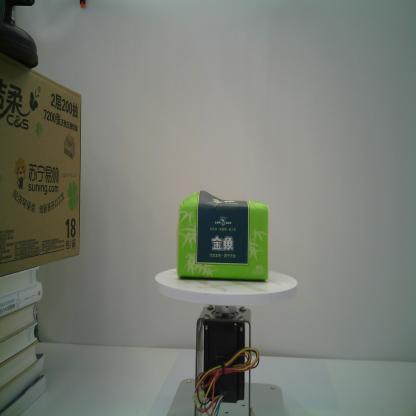Tissue: (174, 188, 270, 286)
